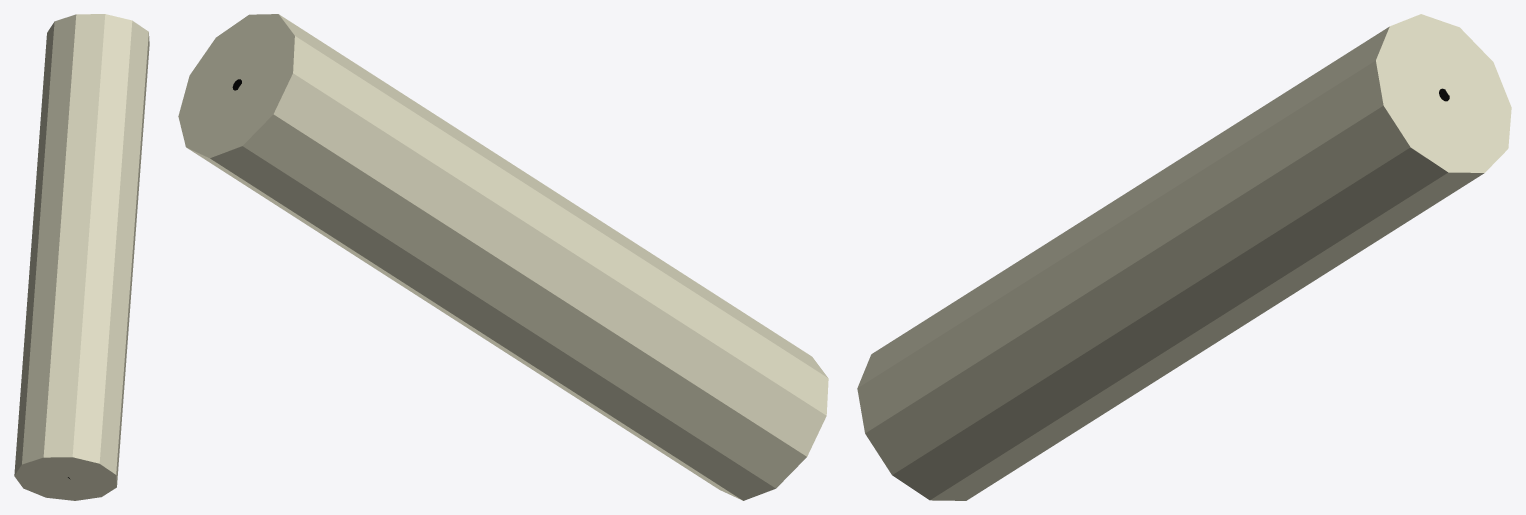
Rendered from tile_240.glb.
3 views of the same model, side by side, from view 1: azimuth 30°, elevation 25°; view 2: azimuth 150°, elevation 25°; view 3: azimuth 270°, elevation 25° (orthographic). The views are drawn at different scales.
Bounding box in the file's own units: 0.7362 × 0.9415 × 0.9265.
